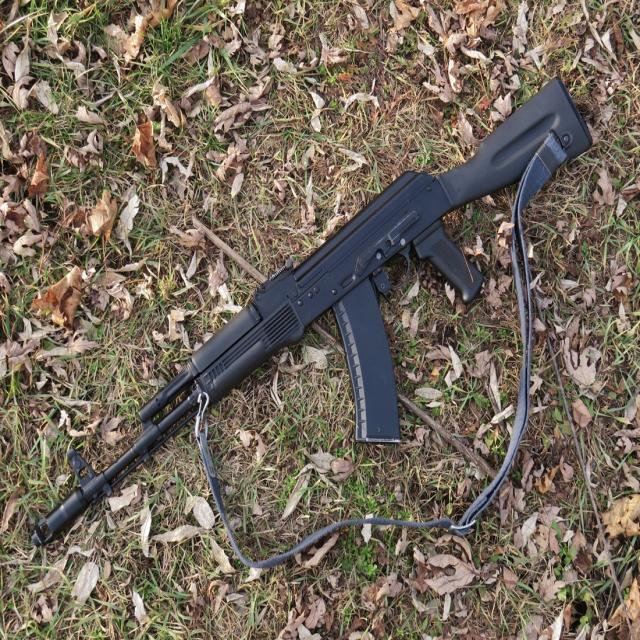weapon: (32, 77, 594, 544)
